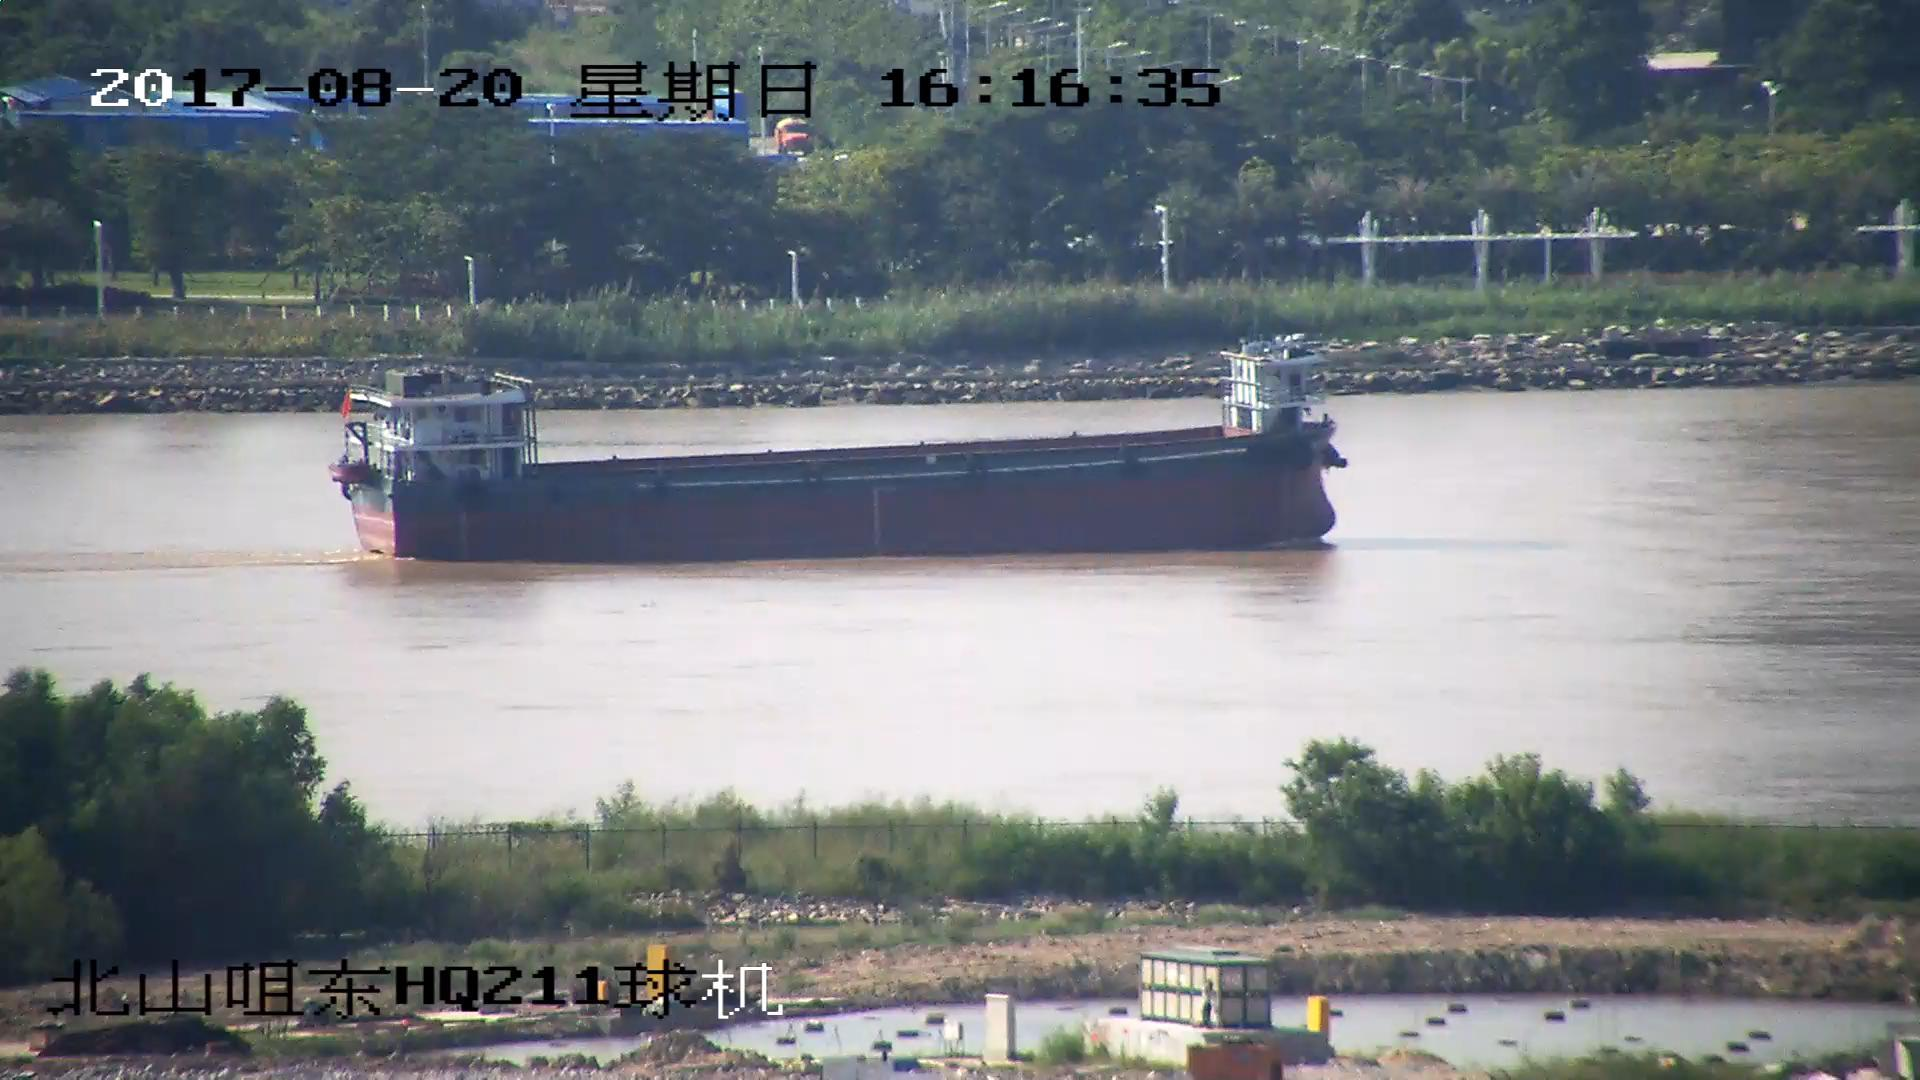Ship: (345, 347, 1346, 555)
